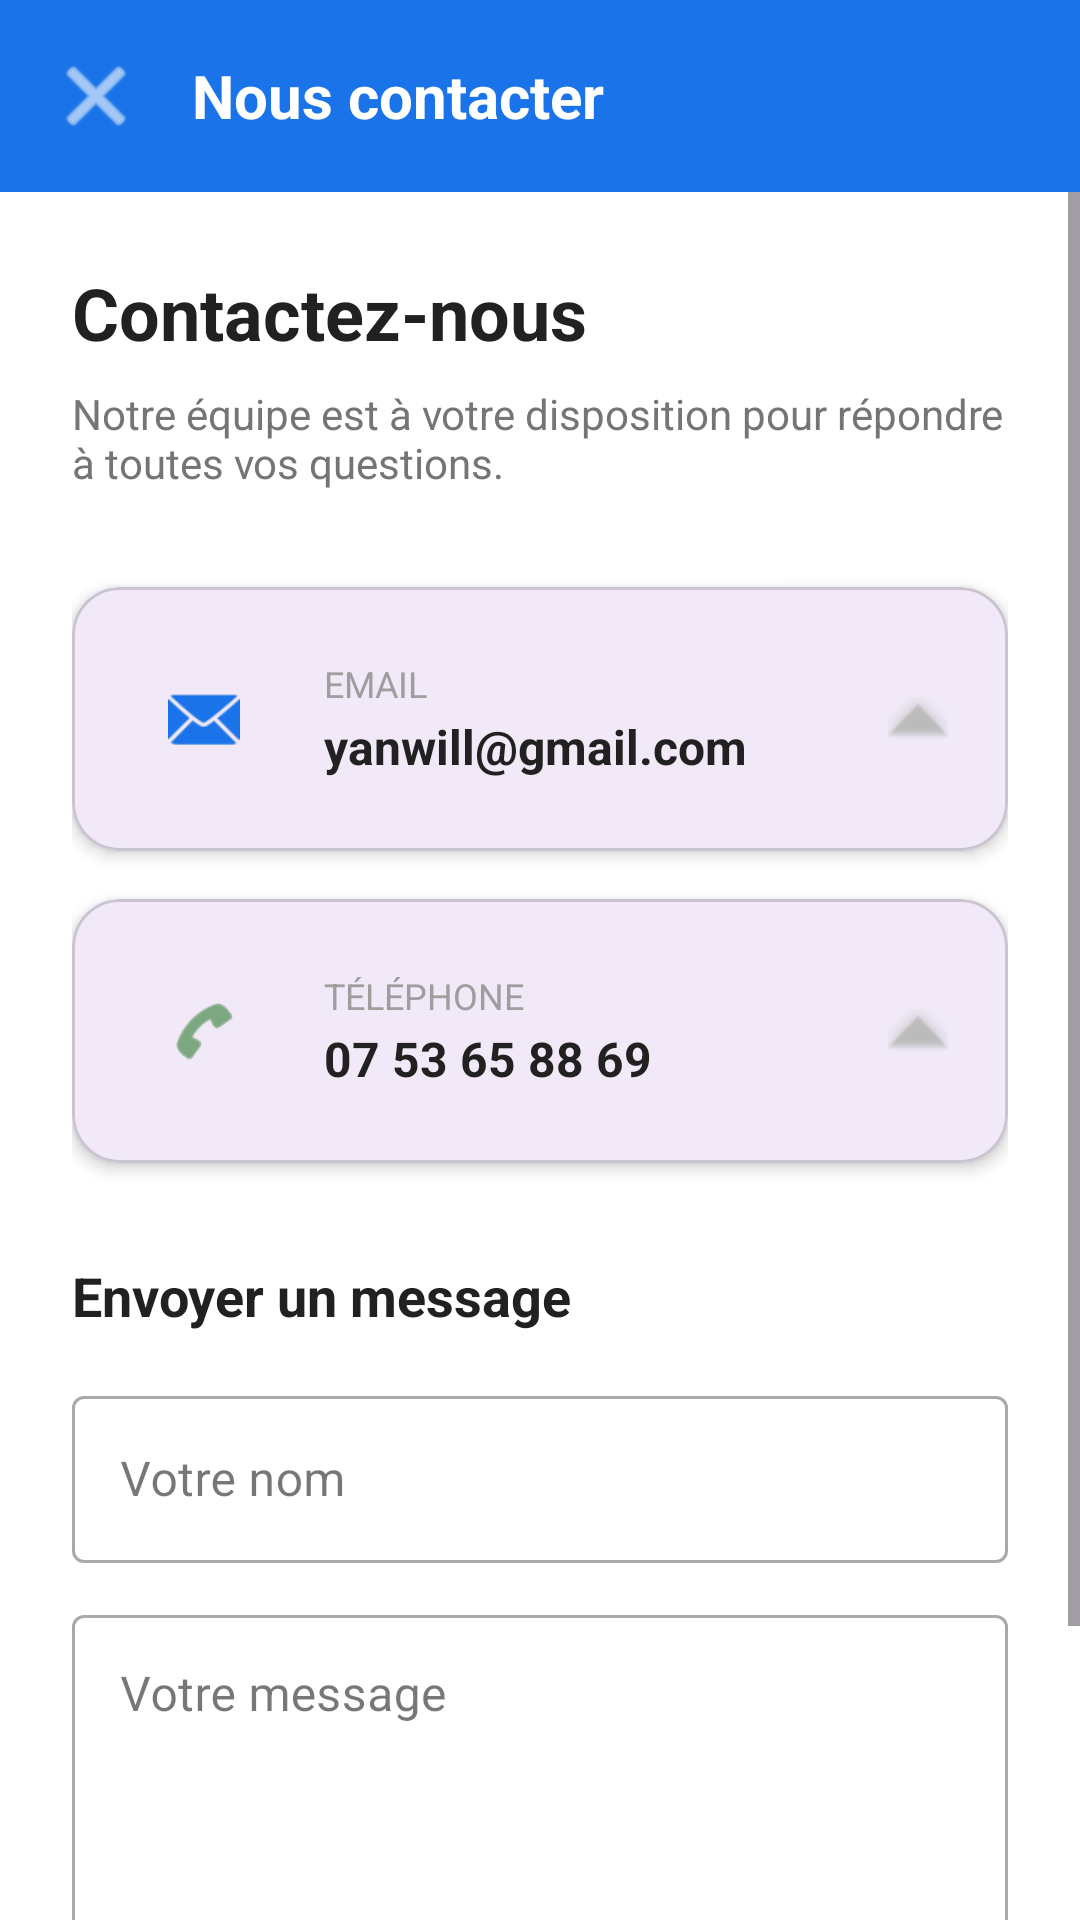

Screen size 1080x1920. Icon name, then its box in pixels as [x1, y1, x2, y2]:
arrow up float: [891, 704, 945, 735], [891, 1016, 945, 1047]
call: [176, 1003, 233, 1059]
Retour: [66, 66, 126, 126]
